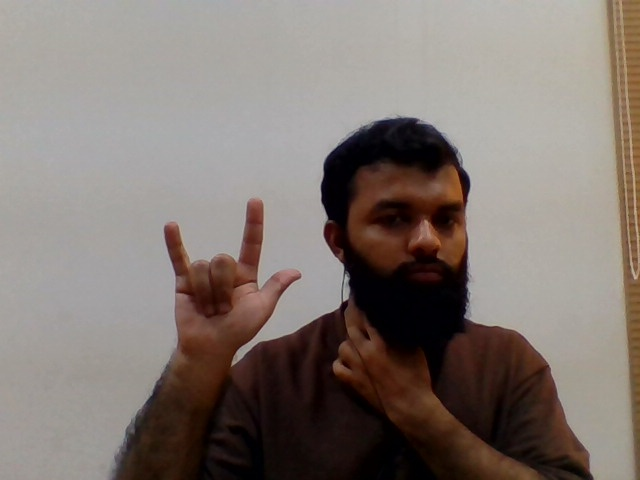I Love you: (156, 195, 311, 360)
